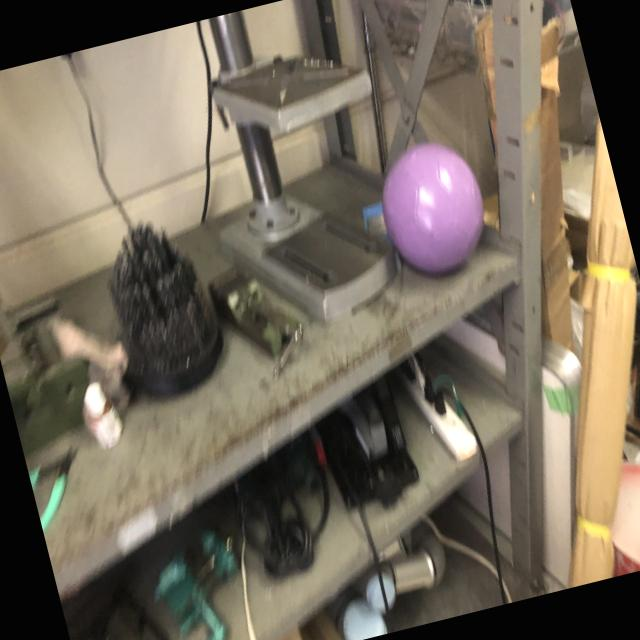purple_ball: (369, 136, 498, 282)
